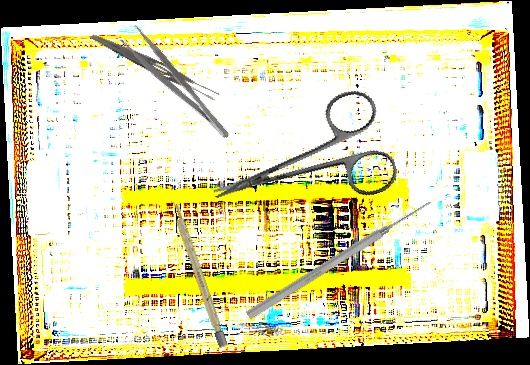Dressing Forceps: (118, 22, 233, 150), (87, 30, 222, 105)
Iris Scissors: (196, 84, 402, 242)
Pusher: (244, 196, 435, 322)
Scalpel Handle: (169, 198, 228, 349)
